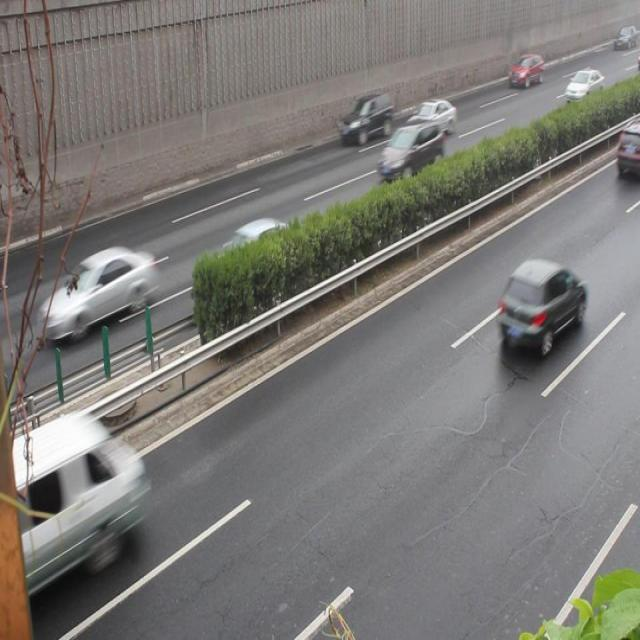car: (37, 248, 156, 341), (198, 218, 295, 307), (496, 260, 585, 352), (377, 118, 443, 179), (338, 92, 393, 145), (404, 97, 455, 139), (614, 119, 640, 174), (507, 52, 543, 89)
